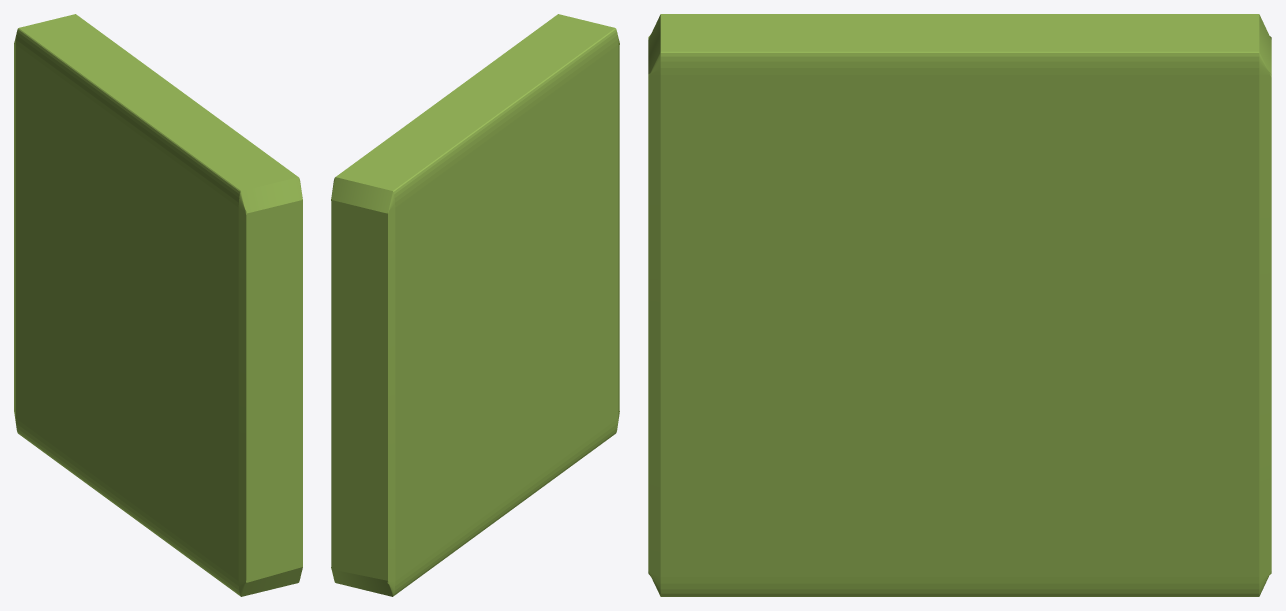
Rendered from cannabutterslice.fbx.
The picture shows the model from 3 angles, left to right: view 1: azimuth 30°, elevation 25°; view 2: azimuth 150°, elevation 25°; view 3: azimuth 270°, elevation 25°; orthographic projection. The views are drawn at different scales.
Parts seen in each view (by area): view 1: Cube.001; view 2: Cube.001; view 3: Cube.001.
Part boxes in pixels (x1,y1,x2,y2): Cube.001: [14, 14, 302, 596]; Cube.001: [331, 14, 619, 596]; Cube.001: [648, 14, 1271, 596].
Size of the model in its own units: 15.34 by 95.57 by 98.99.
